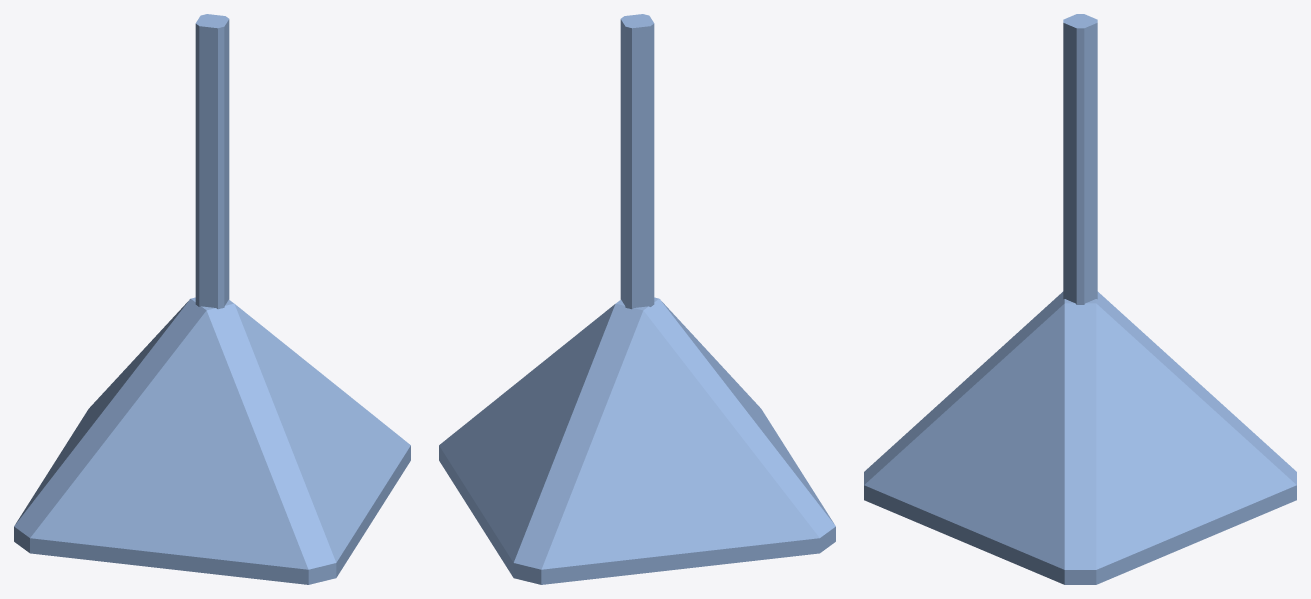
File: Lampa.fbx
3 views of the same model, side by side, from view 1: azimuth 30°, elevation 25°; view 2: azimuth 150°, elevation 25°; view 3: azimuth 270°, elevation 25° (orthographic).
Parts seen in each view (by area): view 1: Cube.002; view 2: Cube.002; view 3: Cube.002.
Boxes of the visible parts, x1,y1,x2,y2 form: Cube.002: (14,14,410,584); Cube.002: (439,14,835,584); Cube.002: (864,14,1296,584).
Bounding box in the file's own units: 70.39 × 84.77 × 70.39.
